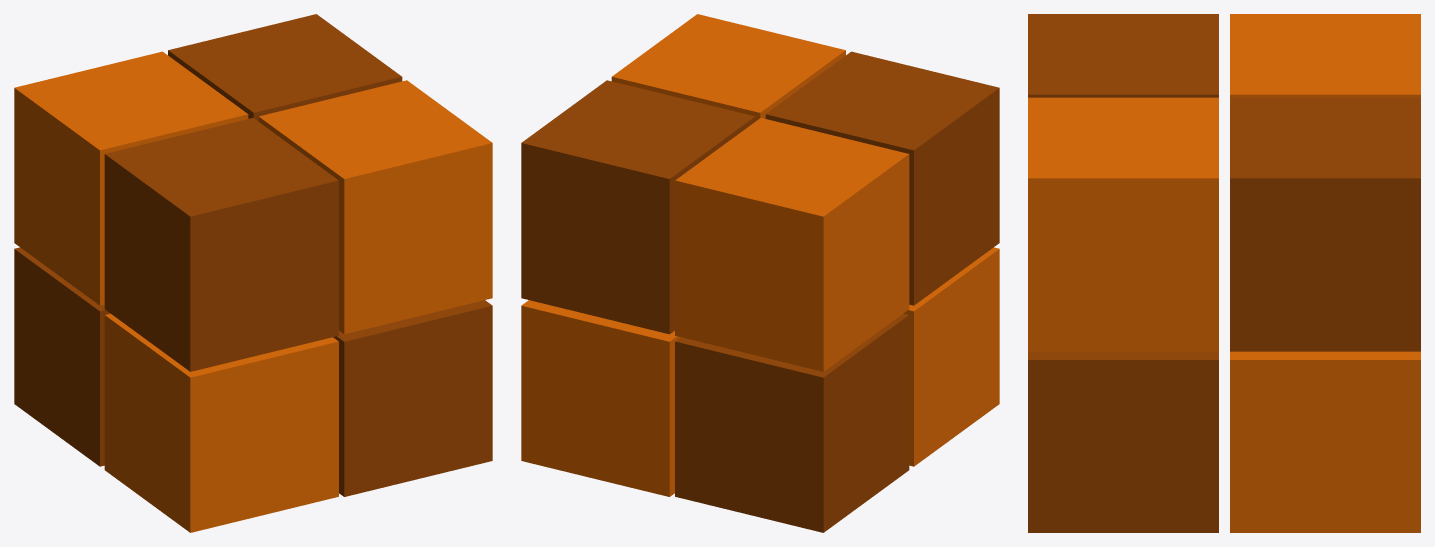
File: Square_Char.fbx
3 views of the same model, side by side, from view 1: azimuth 30°, elevation 25°; view 2: azimuth 150°, elevation 25°; view 3: azimuth 270°, elevation 25° (orthographic). The views are drawn at different scales.
Visible parts, largest first — view 1: pCube9; view 2: pCube9; view 3: pCube9.
Part boxes in pixels (x1=…): pCube9: x1=14, y1=14, x2=492, y2=532; pCube9: x1=521, y1=14, x2=999, y2=532; pCube9: x1=1028, y1=14, x2=1420, y2=532.
Bounding box in the file's own units: 2.04 × 2.05 × 2.06.
